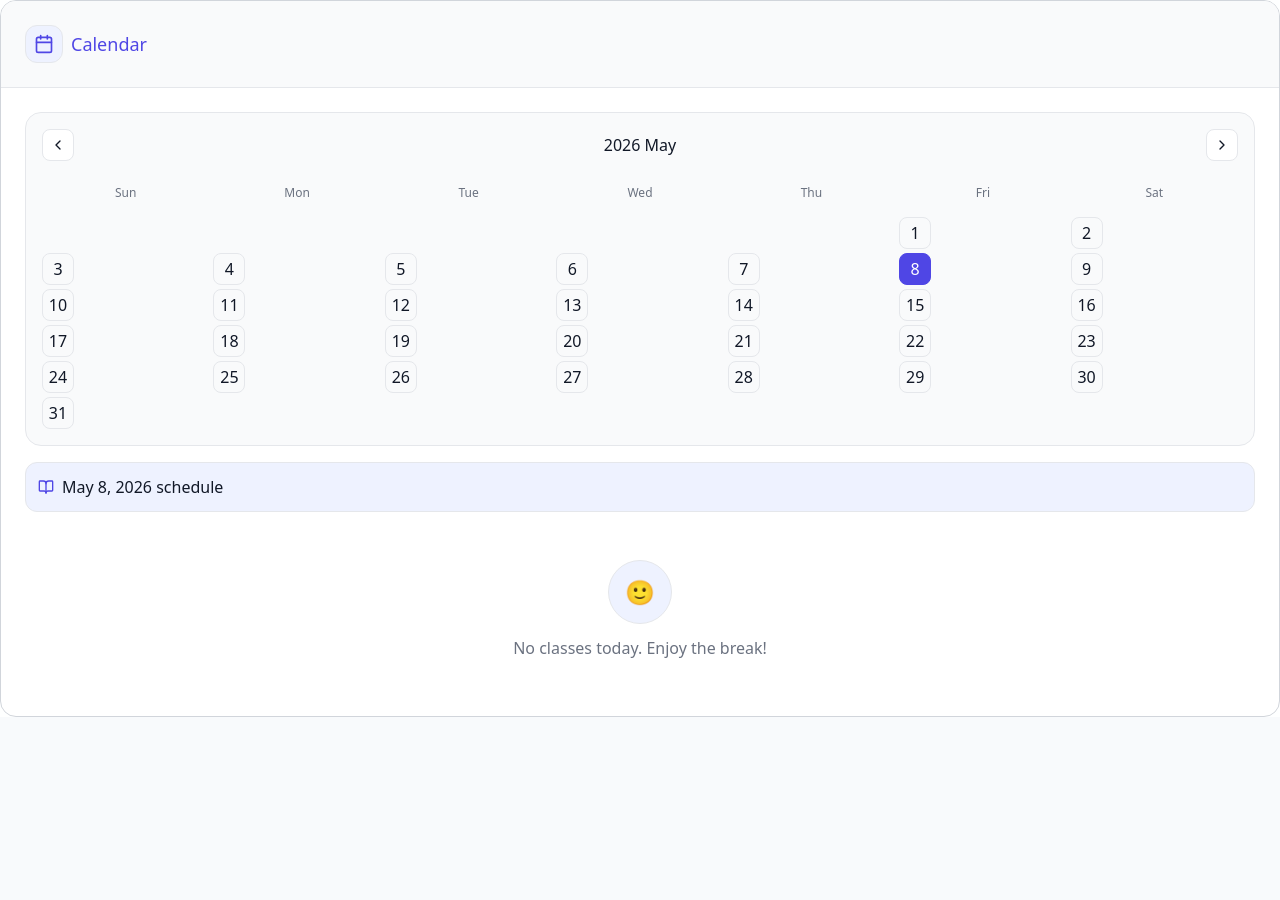
Test: StudyCalendar › supports moving between months
This screenshot has width=1280, height=900.
Check: the heading "2026 May" is shown, box [604, 133, 676, 157]
Click the button named "Next month".
click(1222, 145)  # box [1206, 129, 1238, 161]
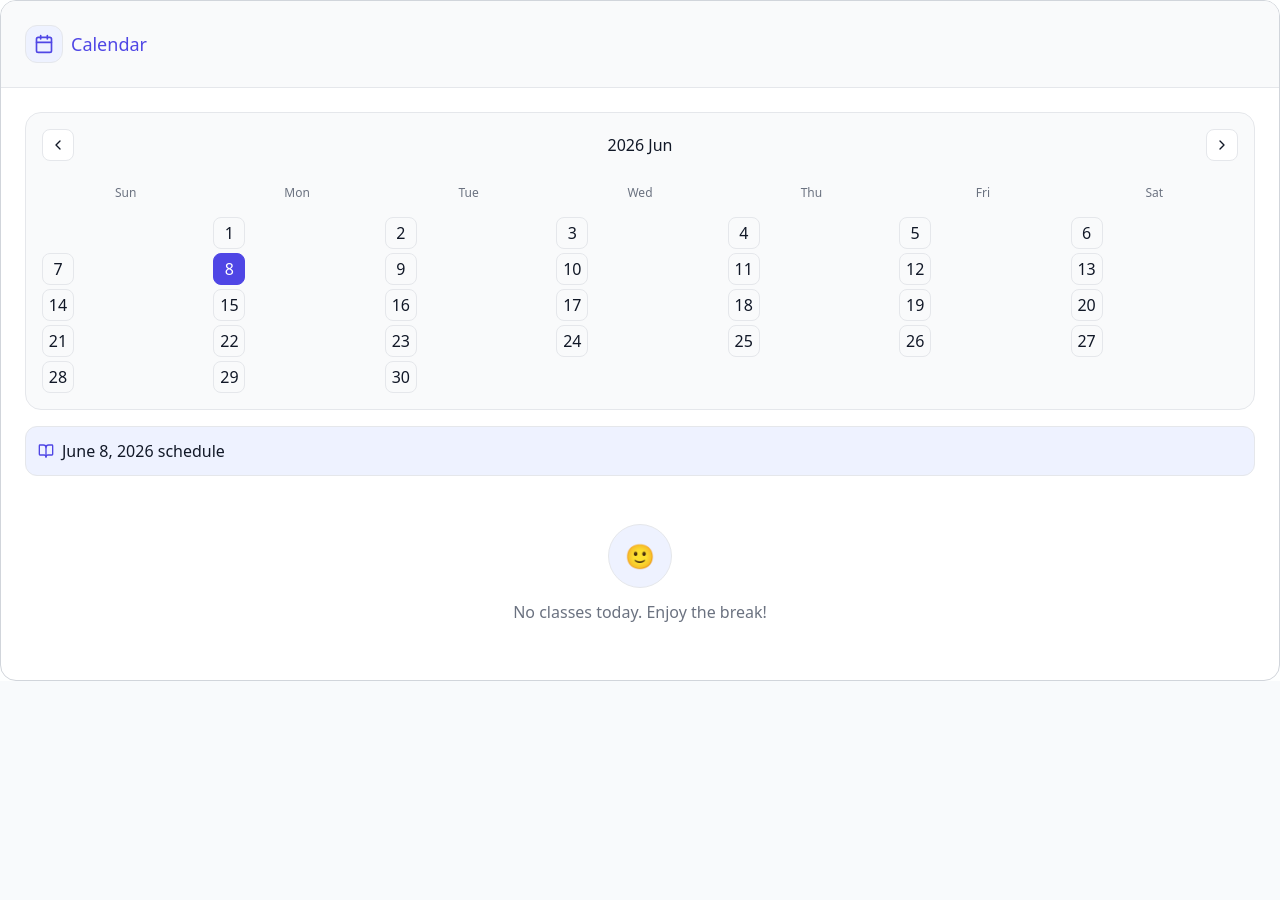
Check: the heading "2026 Jun" is shown, box [608, 133, 672, 157]
Click the button named "Previous month".
click(58, 145)  # box [42, 129, 74, 161]
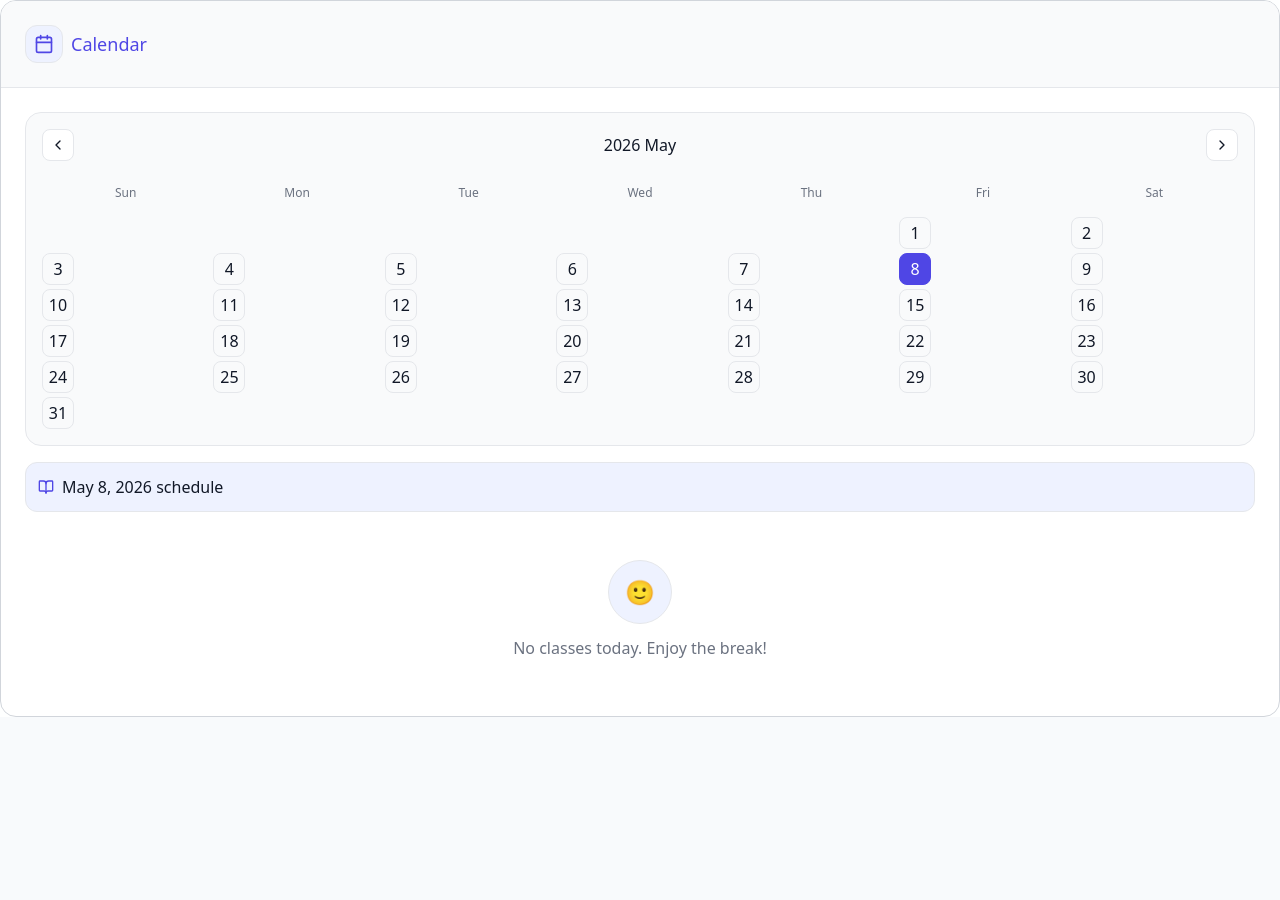
Click the button named "Previous month".
click(58, 145)  # box [42, 129, 74, 161]
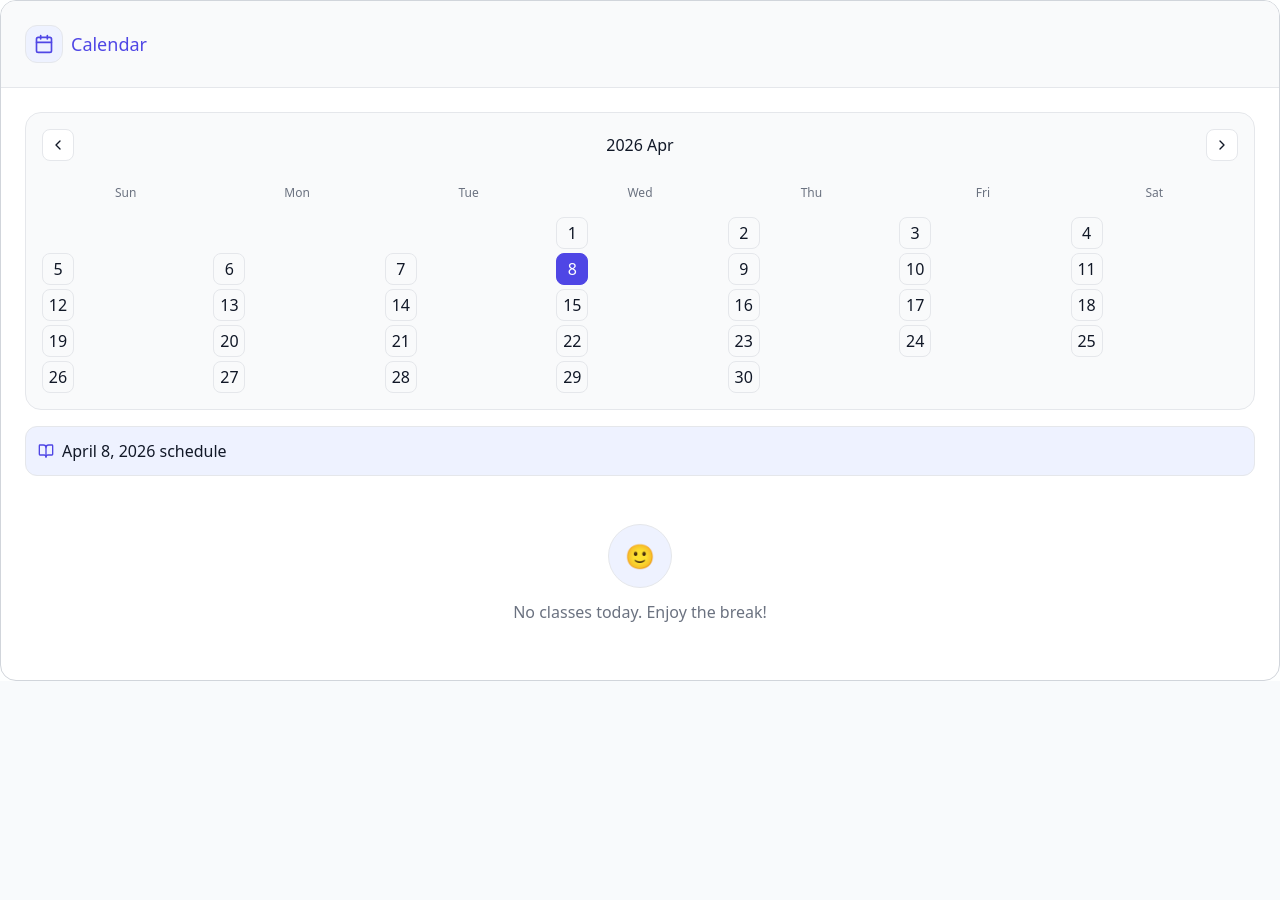
Check: the heading "2026 Apr" is shown, box [606, 133, 674, 157]
